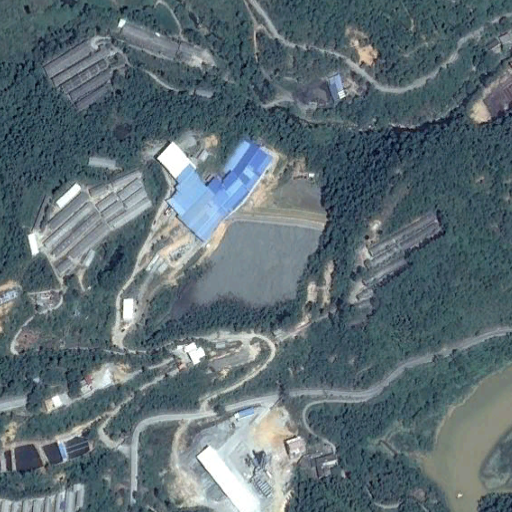tp: (167, 180, 326, 324)
